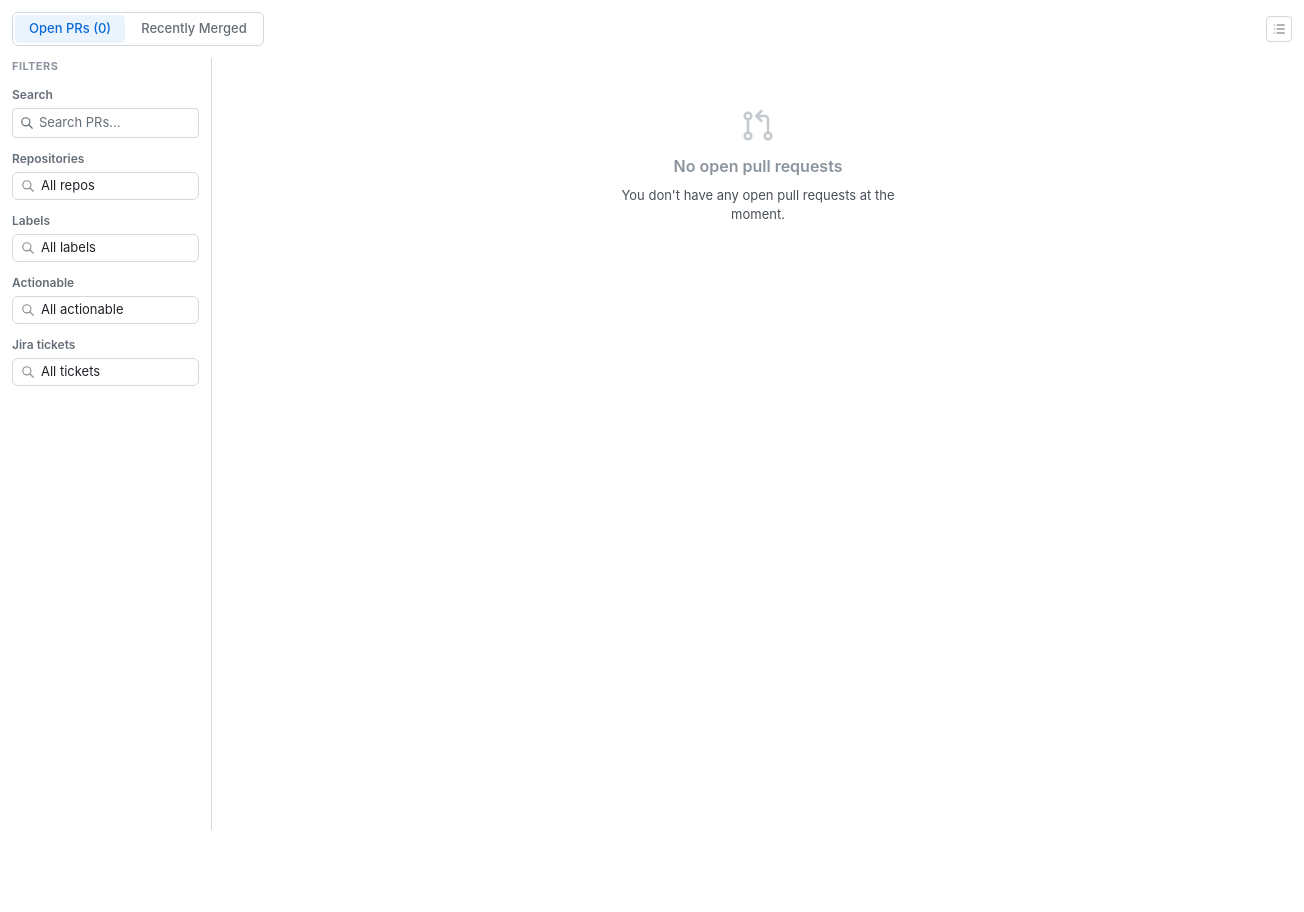
Test: PRsView recently merged › doesn't fetch merged PRs until the Recently Merged sub-tab is opened
Step 1. Click the button "Recently Merged" → (194, 29), box [127, 15, 261, 42]
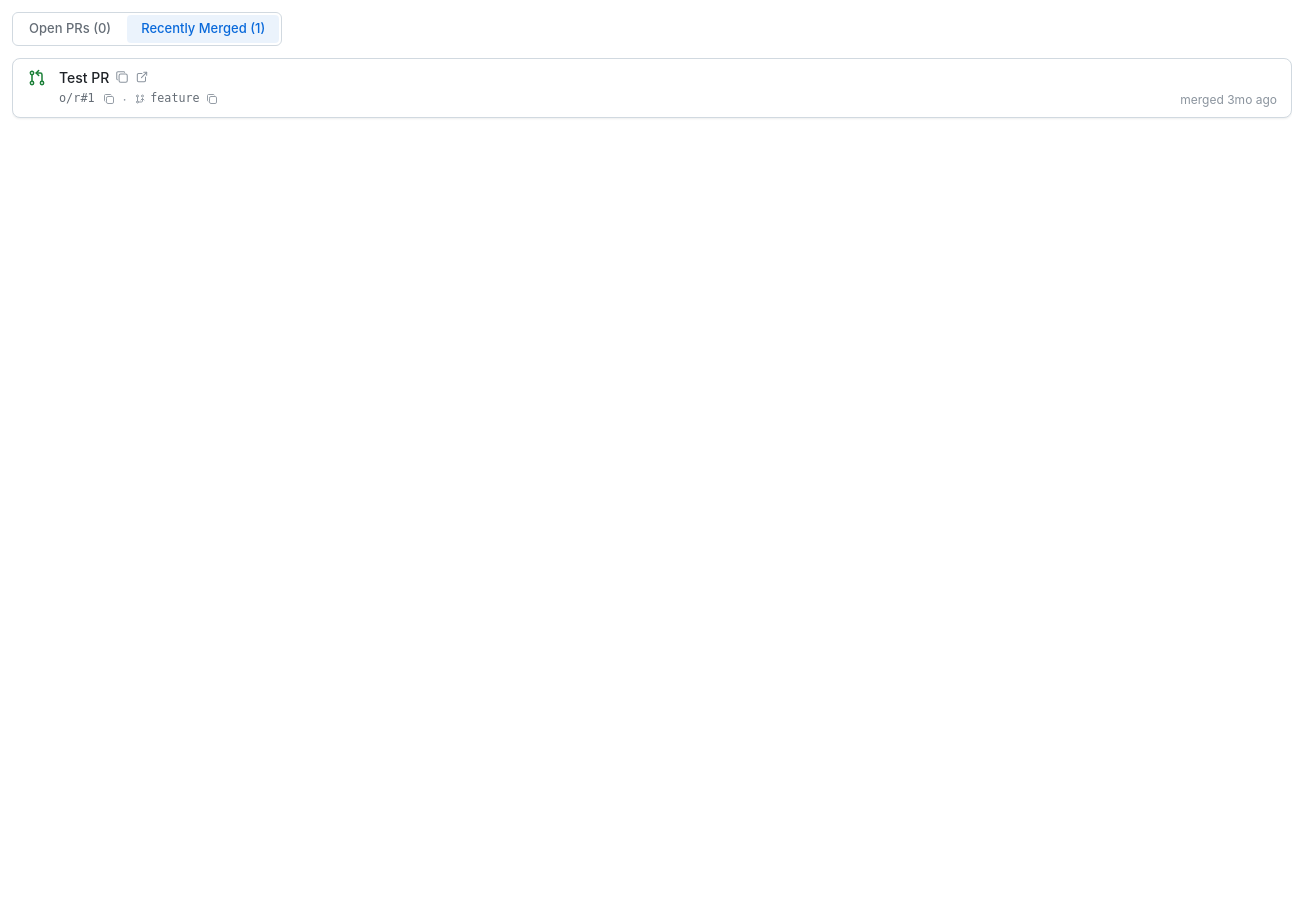
Check: the button "Recently Merged (1)" is shown, box [127, 15, 279, 42]
